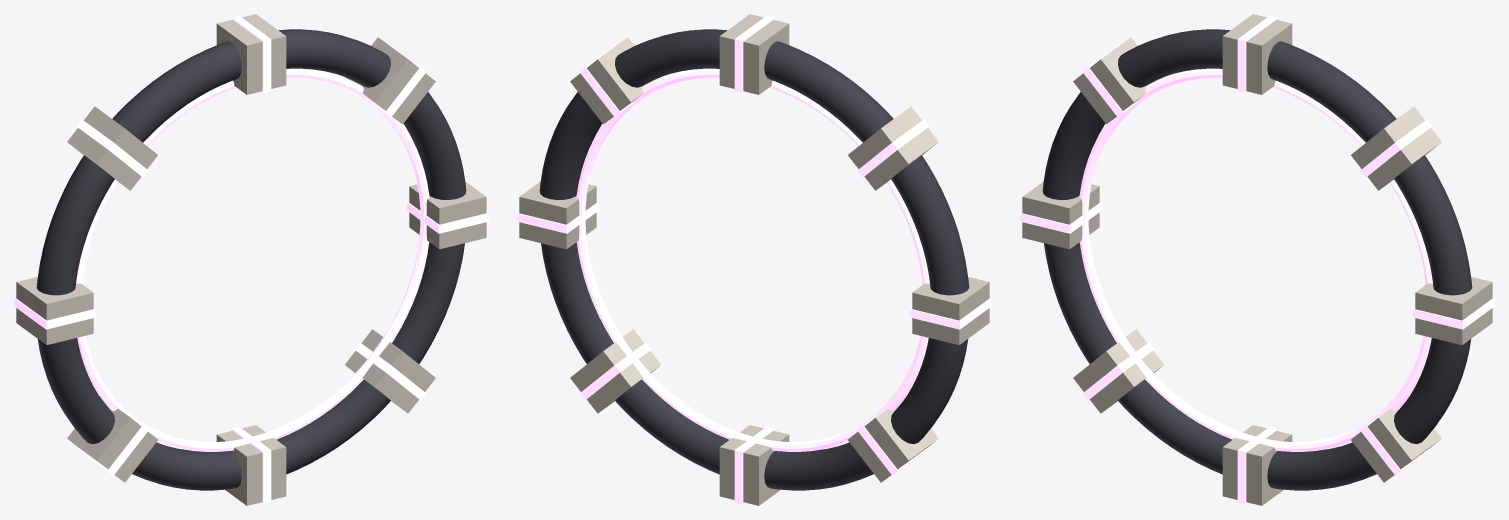
Rendered from portal.glb.
3 views of the same model, side by side, from view 1: azimuth 30°, elevation 25°; view 2: azimuth 150°, elevation 25°; view 3: azimuth 330°, elevation 25° (orthographic).
Parts seen in each view (by area): view 1: Portal; view 2: Portal; view 3: Portal.
Part boxes in pixels (x1,y1,x2,y2): Portal: (14, 14, 488, 505); Portal: (517, 14, 991, 505); Portal: (1020, 14, 1494, 505).
Bounding box in the file's own units: 3.38 × 3.38 × 0.42.
